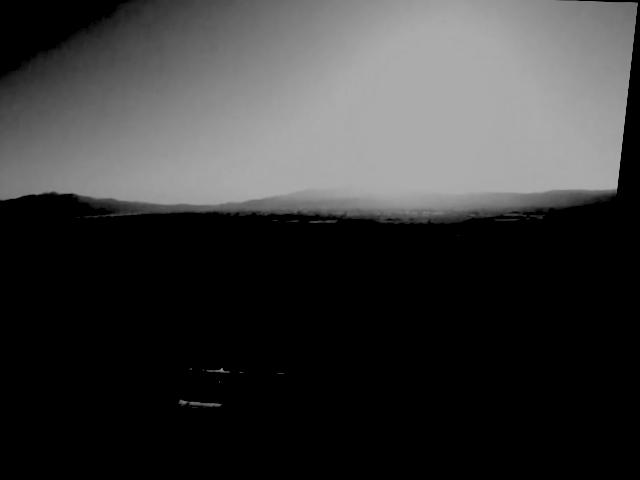hedef: (144, 345, 300, 424)
